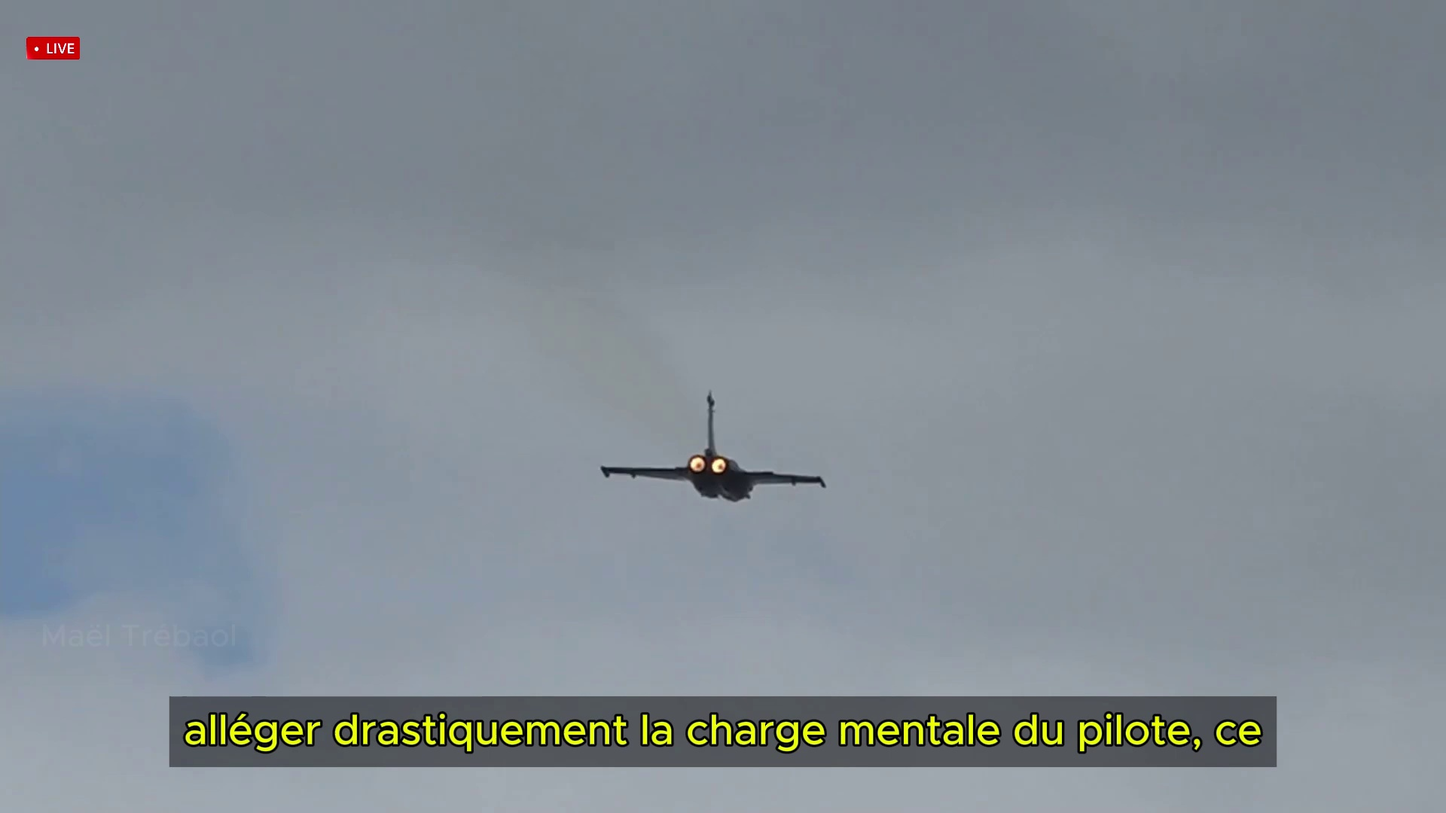Rafale: (600, 392, 824, 500)
